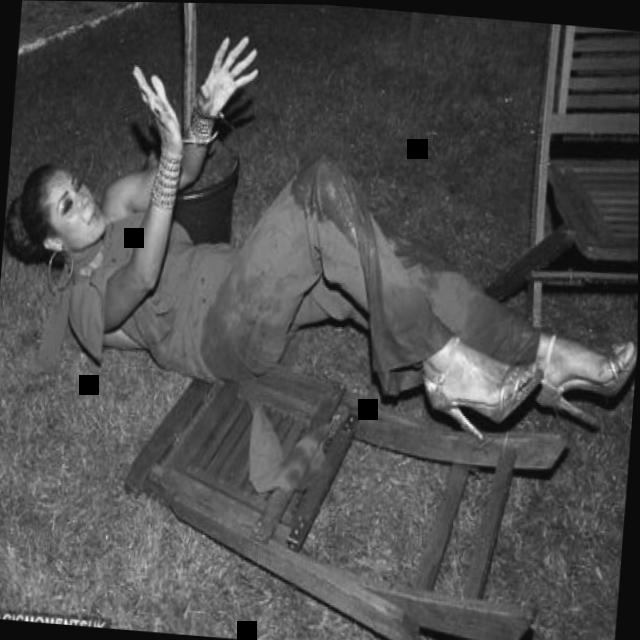Fall-Detected: (0, 36, 640, 476)
